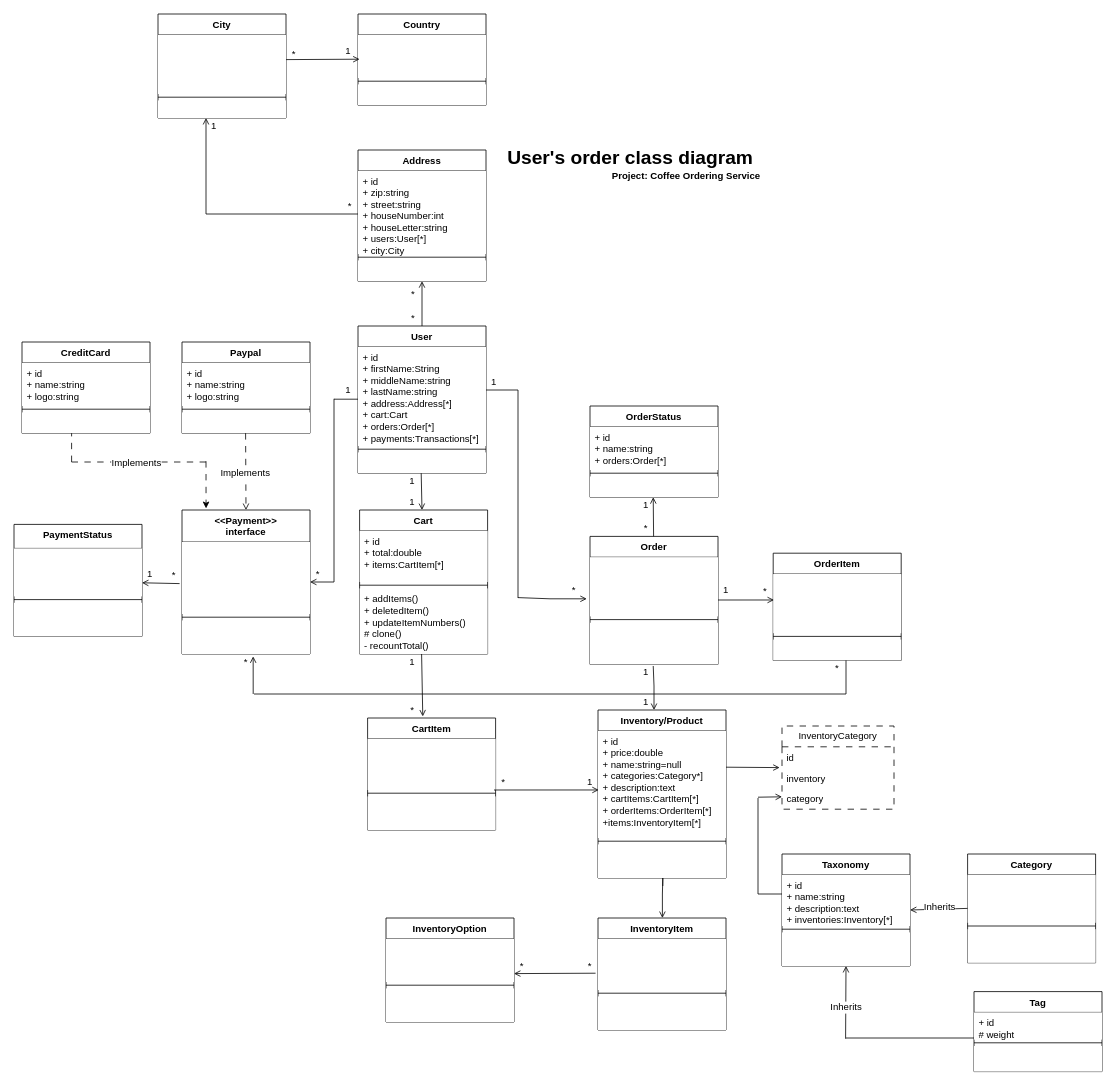
The diagram is 1116 pixels wide and 1088 high, and some of its shapes have lost their labels. Each missing label, with the centre of its shape:
"# calculateWeight()" goes at (1038,1058).
"+ addOption() + deleteOption()" goes at (662,1013).
"+ changeStatus() + create() - addItem()" goes at (654,643).
"+ id + code:string + name:string" goes at (422,56).
"+ id + code:string + name:string + country:Country" goes at (222,64).
"+ id + left:bigint + right:bigint" goes at (1031,898).
"+ id + name:string + description:text + options:InventoryOption[*]" goes at (662,964).
"+ id + name:string + payments:Payment[*]" goes at (78,572).
"+ id + name:string + value:string" goes at (450,960).
"+ id + number:integer *inventory:Inventory + order:Order" goes at (837,603).
"+ id + number:integer + inventory:Inventory" goes at (431,764).
"+ id + total:souble + status:OrderStatus + items:OrderItem[*]" goes at (654,586).
"+ id + type:PaymentType + total:double + order:Order + status:PaymentStatus" goes at (246,578).
"+ setCategory() - addItem()" goes at (662,861).
"- changeStatus() + change()" goes at (246,637).
